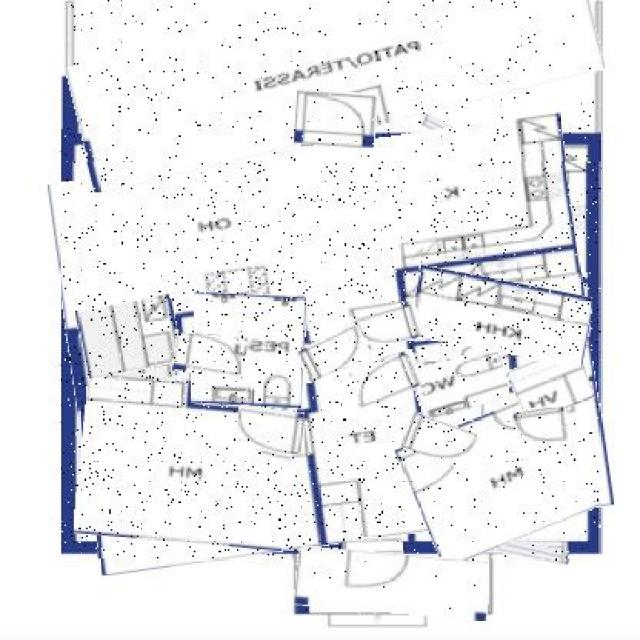door: (294, 90, 377, 148), (351, 354, 423, 403), (404, 418, 476, 464), (298, 331, 369, 377), (351, 305, 422, 349), (174, 336, 248, 378), (345, 538, 403, 591), (236, 408, 304, 452), (514, 409, 568, 449)
window: (122, 129, 283, 148), (418, 124, 511, 156), (472, 537, 570, 560), (140, 537, 235, 558)
zone: (62, 130, 603, 558), (68, 0, 600, 162), (78, 375, 294, 548), (404, 400, 594, 555), (411, 272, 591, 360), (192, 296, 306, 406), (294, 551, 489, 615), (80, 298, 182, 376), (412, 352, 510, 417), (511, 351, 592, 418)
